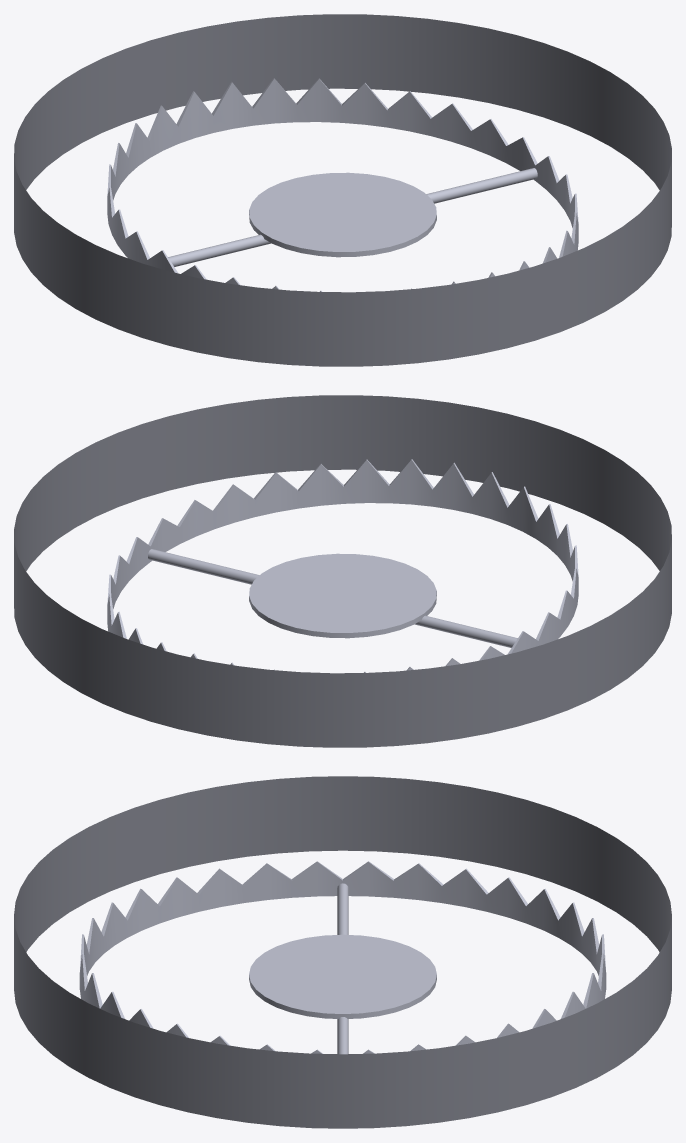
File: claymore_trap_r2.obj
3 views of the same model, one above another, from view 1: azimuth 30°, elevation 25°; view 2: azimuth 150°, elevation 25°; view 3: azimuth 270°, elevation 25° (orthographic).
Visible parts, largest first — view 1: foottrap_r1; view 2: foottrap_r1; view 3: foottrap_r1.
Boxes of the visible parts, x1=… form: foottrap_r1: x1=14, y1=14, x2=671, y2=366; foottrap_r1: x1=14, y1=395, x2=671, y2=747; foottrap_r1: x1=14, y1=776, x2=671, y2=1128.
Size of the model in its own units: 2 by 0.25 by 2.
